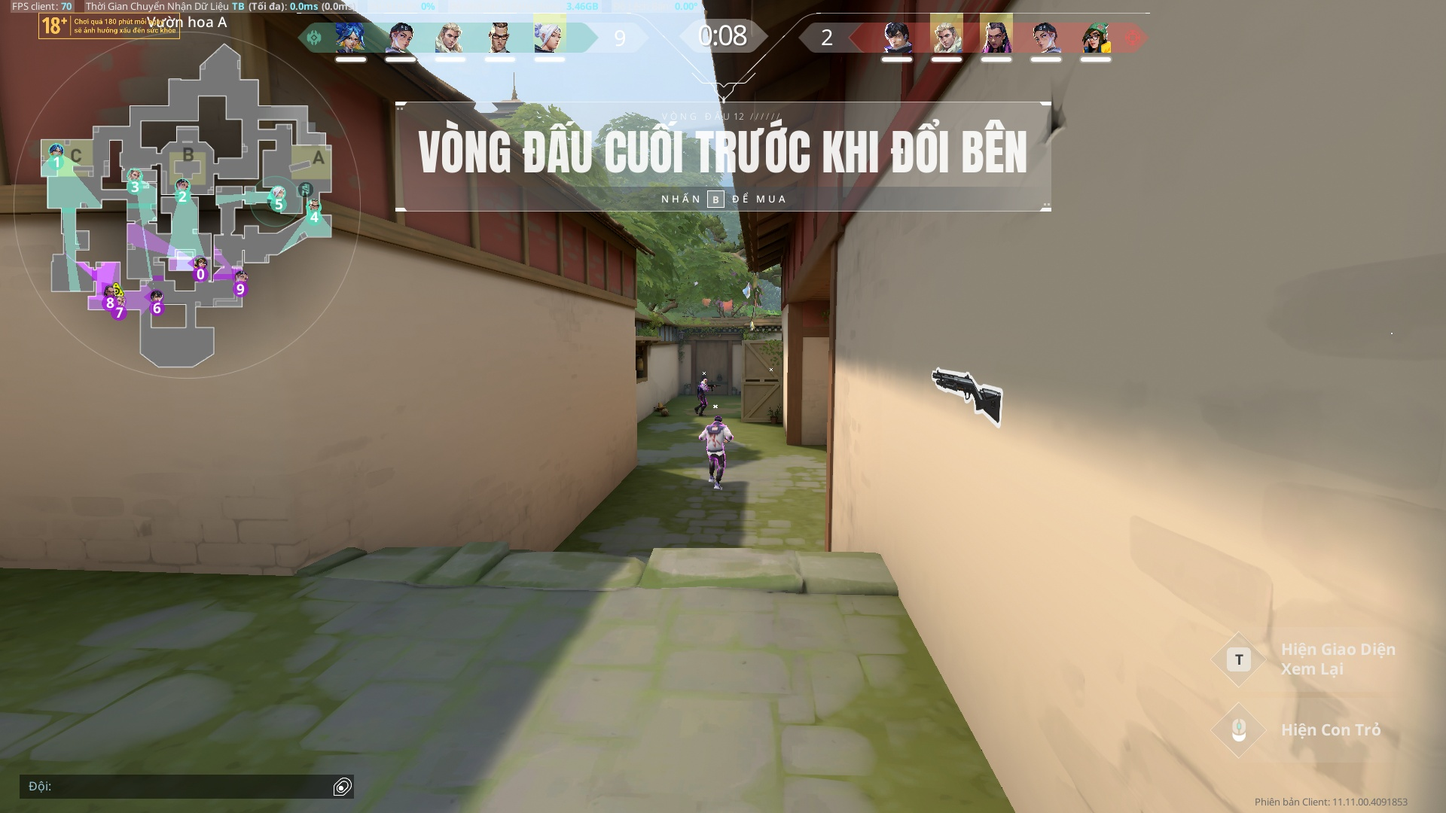body: (703, 423, 728, 446), (696, 382, 707, 397)
head: (711, 414, 723, 425), (702, 377, 708, 384)
